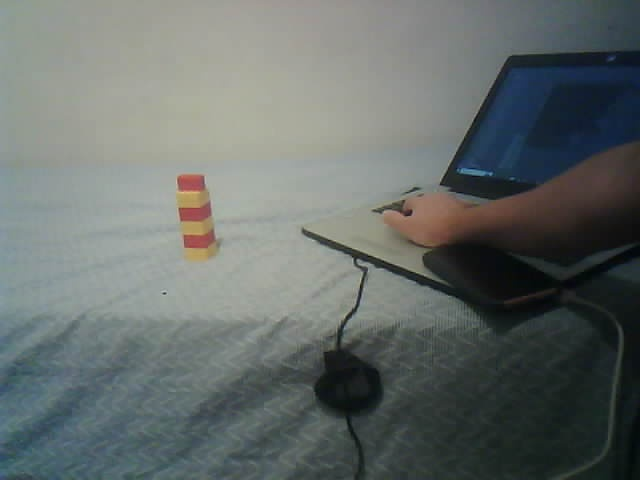lego: (175, 173, 217, 262)
